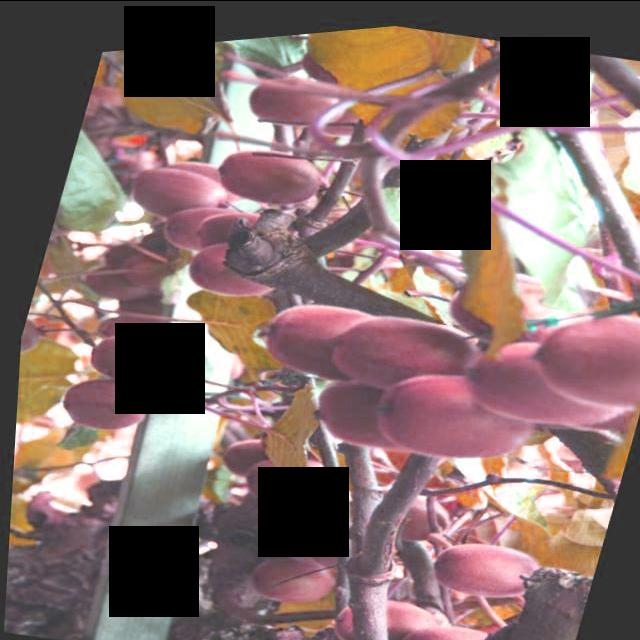kiwi: (367, 353, 547, 477), (457, 325, 635, 445), (321, 295, 488, 405), (515, 295, 640, 425), (246, 283, 367, 386), (206, 129, 329, 212), (427, 528, 550, 610), (82, 315, 202, 393), (239, 439, 351, 516), (119, 148, 232, 224), (180, 227, 290, 304), (54, 360, 163, 436), (235, 62, 345, 135), (328, 579, 453, 640), (246, 543, 344, 610), (387, 608, 517, 640)
